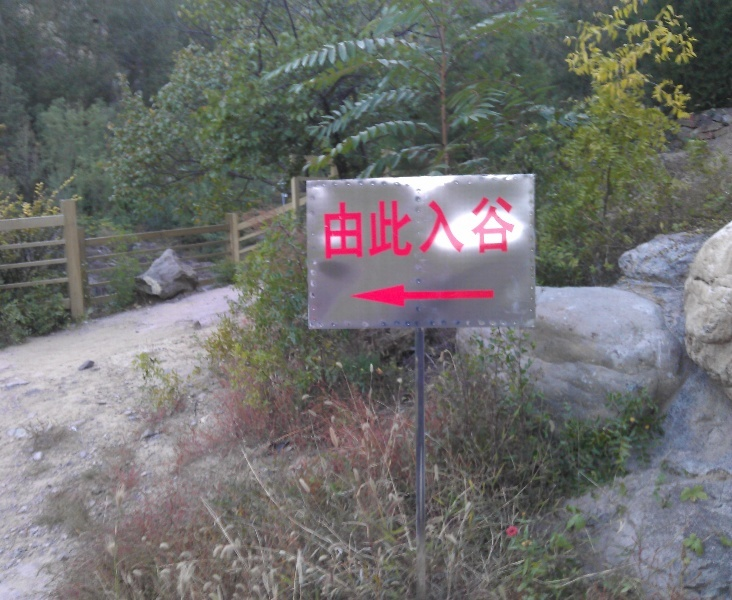text: (337, 196, 352, 258), (353, 196, 368, 258), (369, 196, 384, 258), (385, 196, 400, 258), (401, 196, 416, 258), (417, 196, 432, 258), (433, 196, 448, 258), (449, 196, 464, 258), (465, 196, 480, 258), (481, 196, 496, 258), (497, 196, 512, 258), (324, 196, 336, 258), (513, 196, 520, 258)
